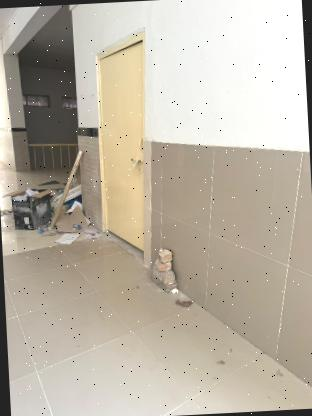door: (84, 25, 160, 266)
